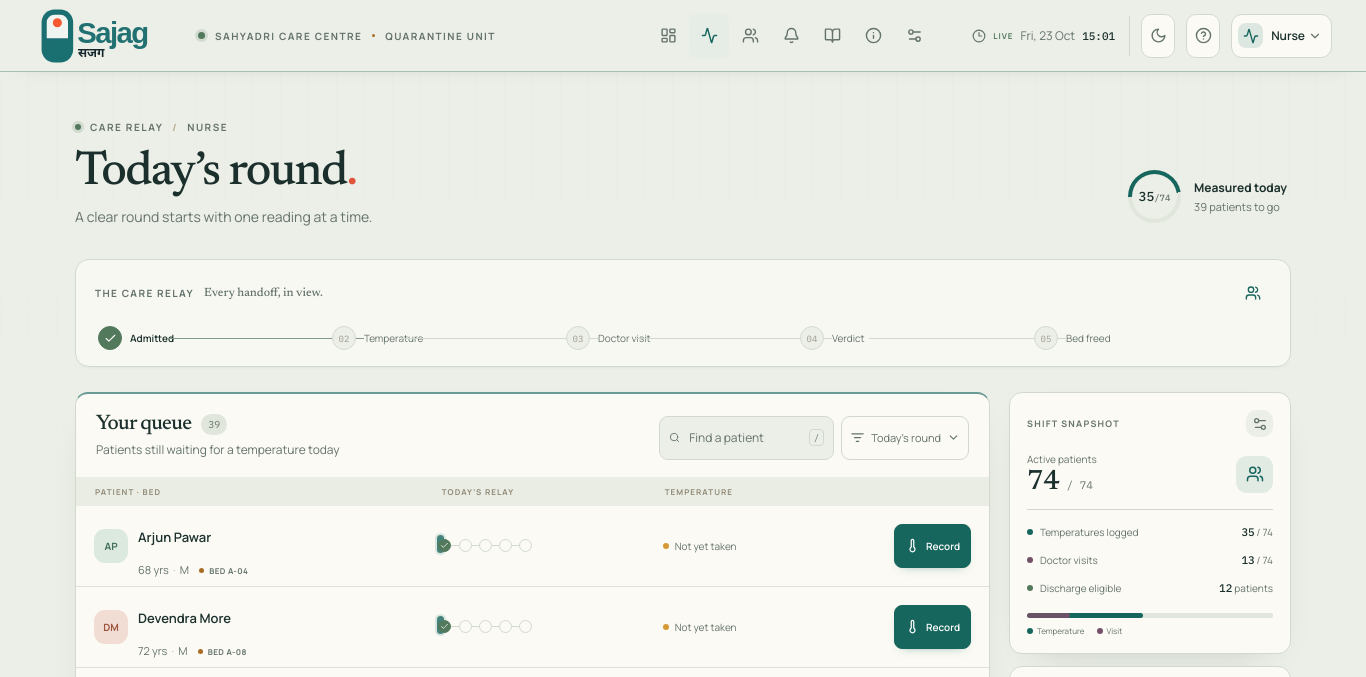
Sajag interface workflows › returns to demo sign-in when the user exits the workspace
What coordinates should you click on to do the following:
click the button "Nurse"
I would click on:
 (1282, 36)
Its box is [1231,14,1332,58].
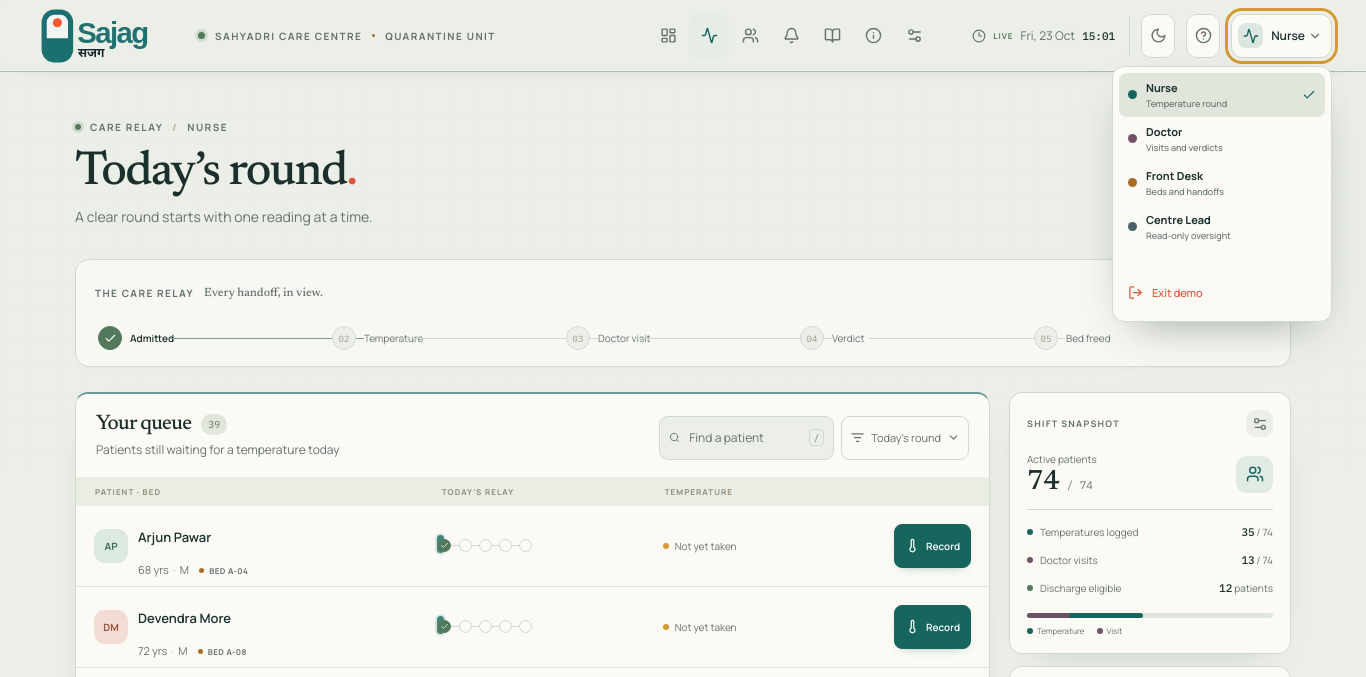
What coordinates should you click on to do the following:
click the menu item "Exit demo"
I would click on:
 (1222, 292)
Its box is [1119,270,1325,314].
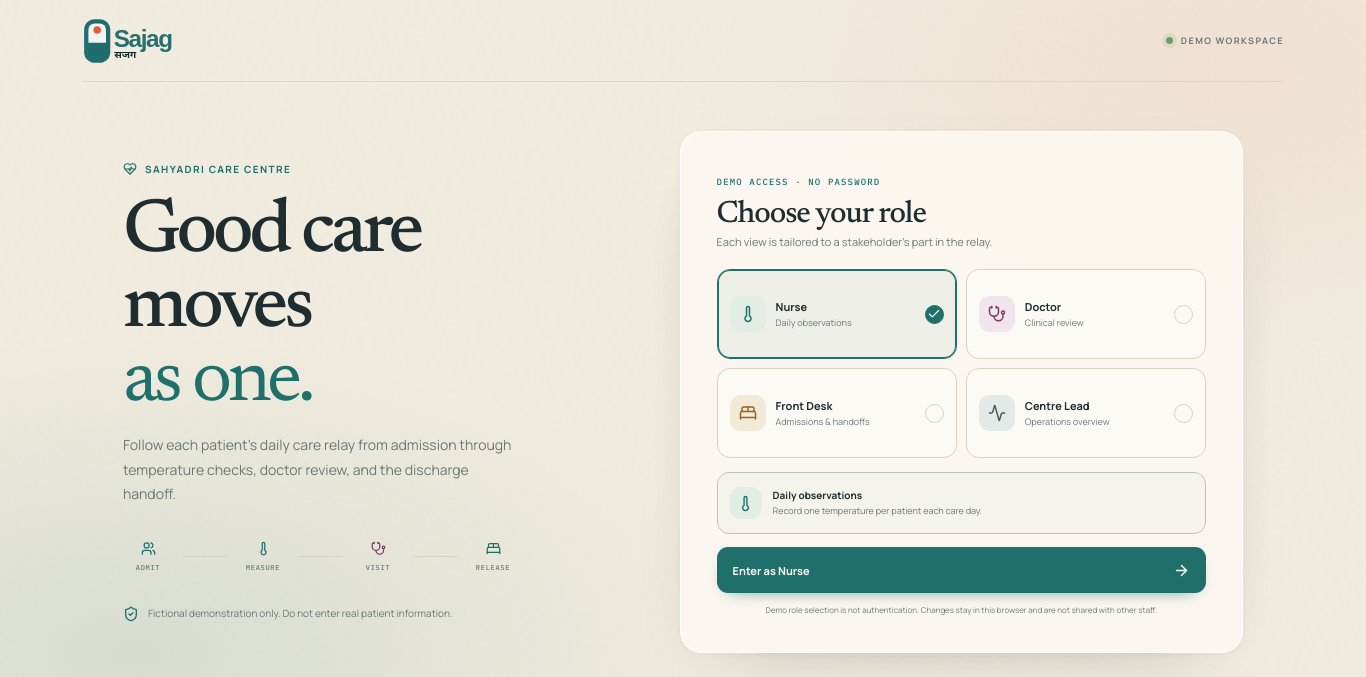
Now the heading "Good care moves" is shown, box [123,195,420,420]
